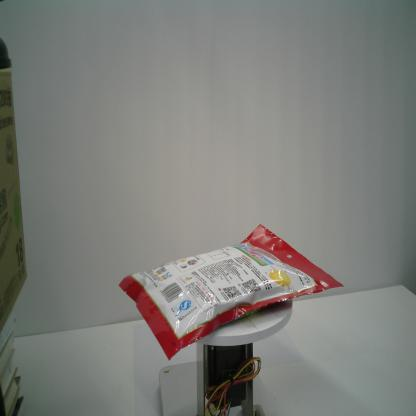Instant Drink: (115, 220, 345, 362)
